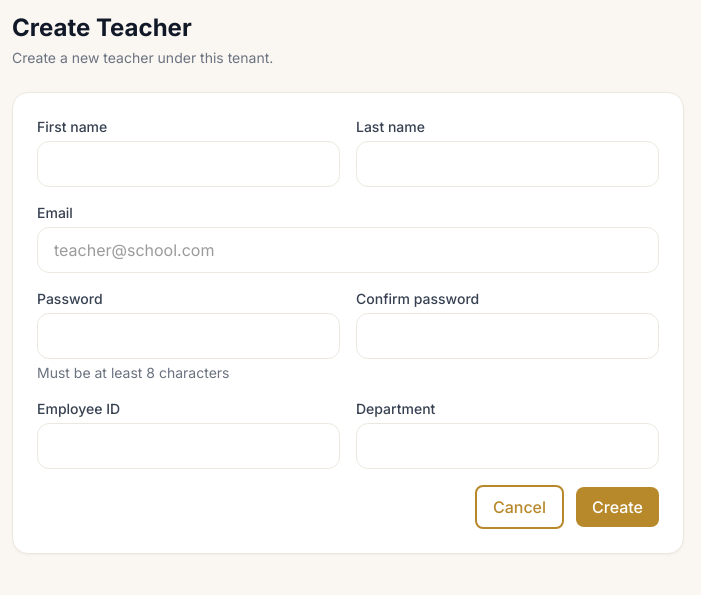
CreateTeacherPage — server field-level errors › server email error is shown inline on the email field
Type "Jane" into the field labelled "First name" at (188,164), box x1=37 y1=141 x2=340 y2=187
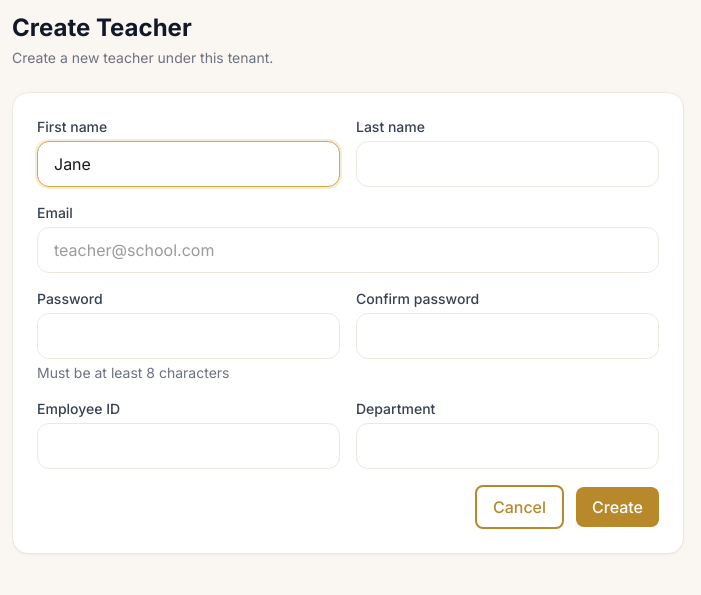
Type "Doe" into the field labelled "Last name" at (508,164), box x1=356 y1=141 x2=659 y2=187
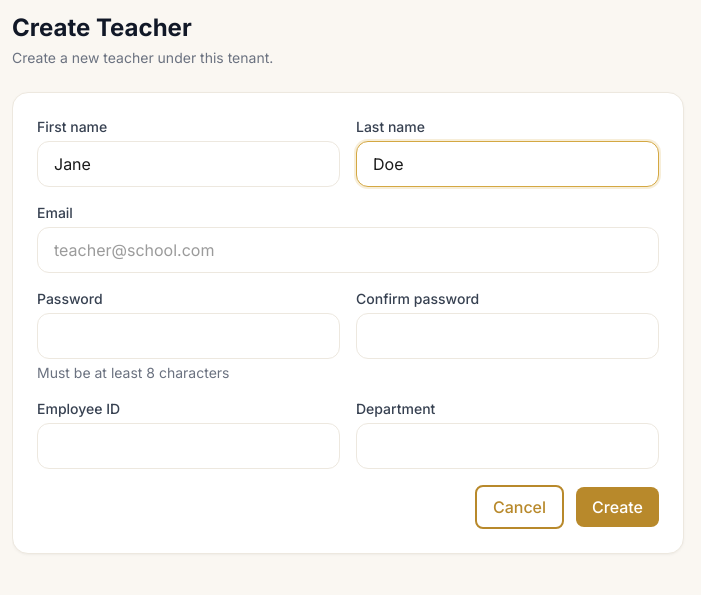
Type "existing@school.com" into the field with placeholder "teacher@school.com" at (348,250), box x1=37 y1=227 x2=659 y2=273
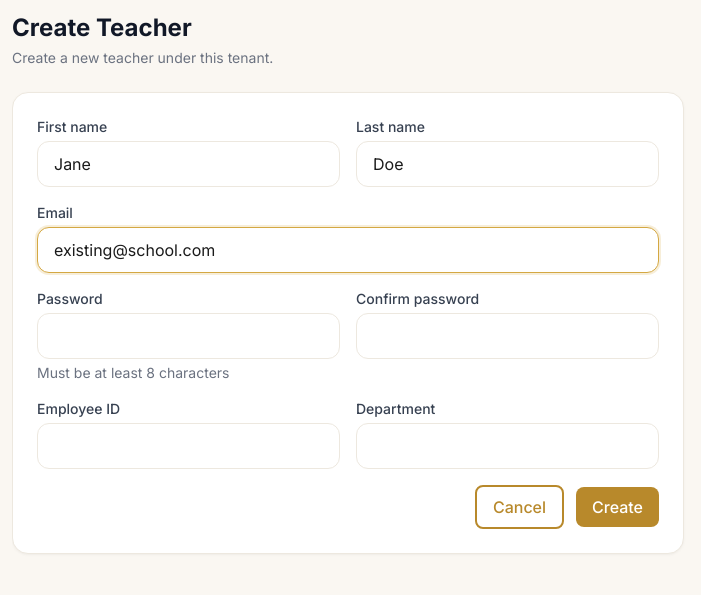
Type "StrongPass1" into the password field labelled "Password" at (188,336), box x1=37 y1=313 x2=340 y2=359
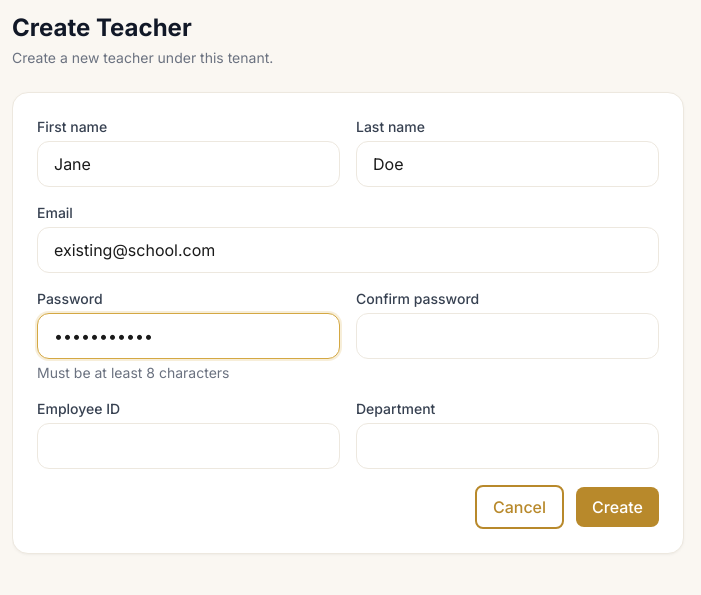
Type "StrongPass1" into the password field labelled "Confirm password" at (508,336), box x1=356 y1=313 x2=659 y2=359
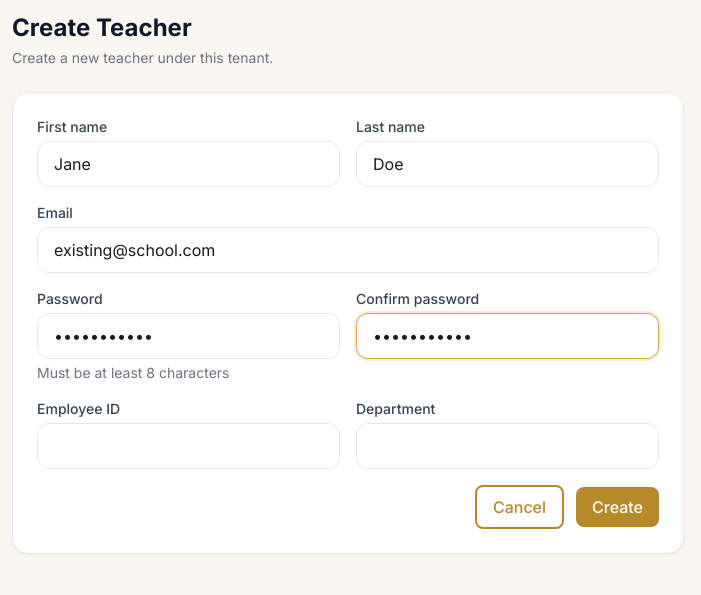
Click the button "Create" at (618,507), box x1=576 y1=487 x2=659 y2=527
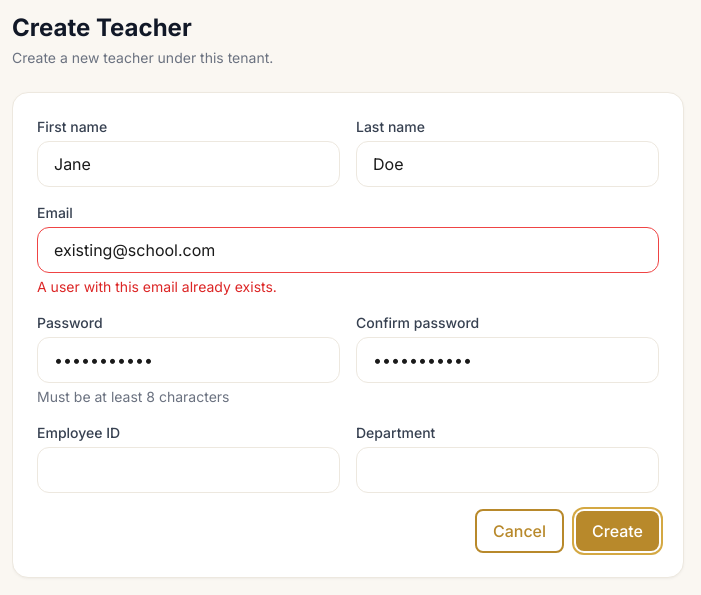
Expected: the text "A user with this email already exists." is shown, x1=37 y1=278 x2=277 y2=295
